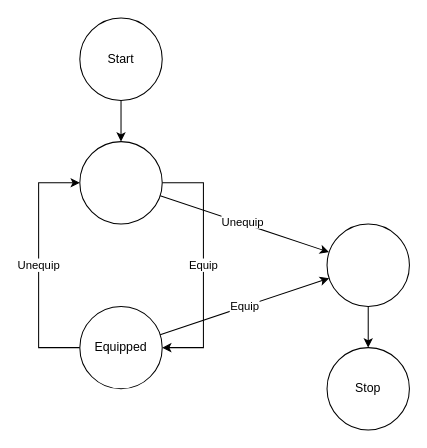
Some shapes in this 427 by 448 pixel diagram are drawn without their labels. Each missing label, with the box of its shape:
Exception: (326, 223, 409, 306)
Unequipped: (79, 141, 162, 224)
